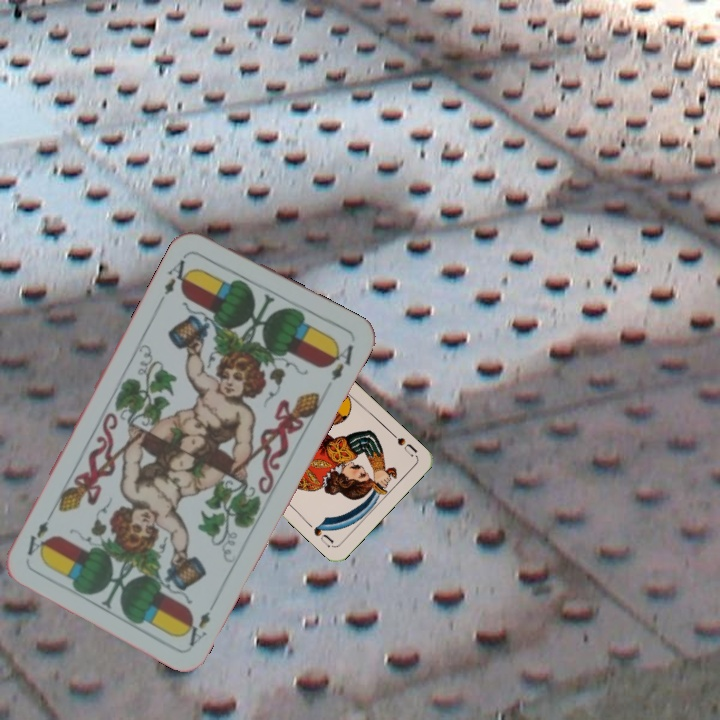EA: (160, 250, 196, 298), (179, 607, 213, 650)
SU: (386, 428, 420, 459)
